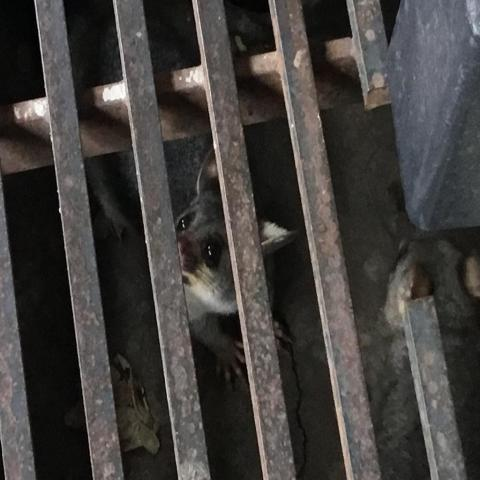small_animal: (50, 123, 302, 389)
